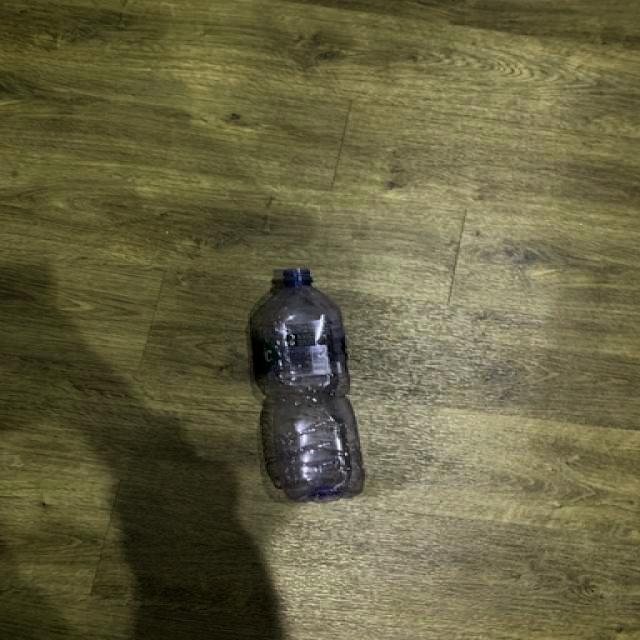bottle: (249, 267, 358, 502)
